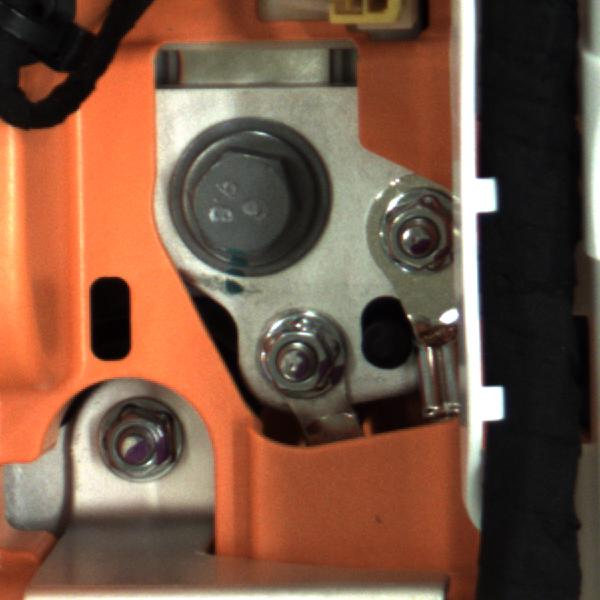nut_b: (158, 120, 332, 273)
screw_s: (98, 401, 196, 480), (247, 322, 341, 404), (368, 186, 454, 270)
